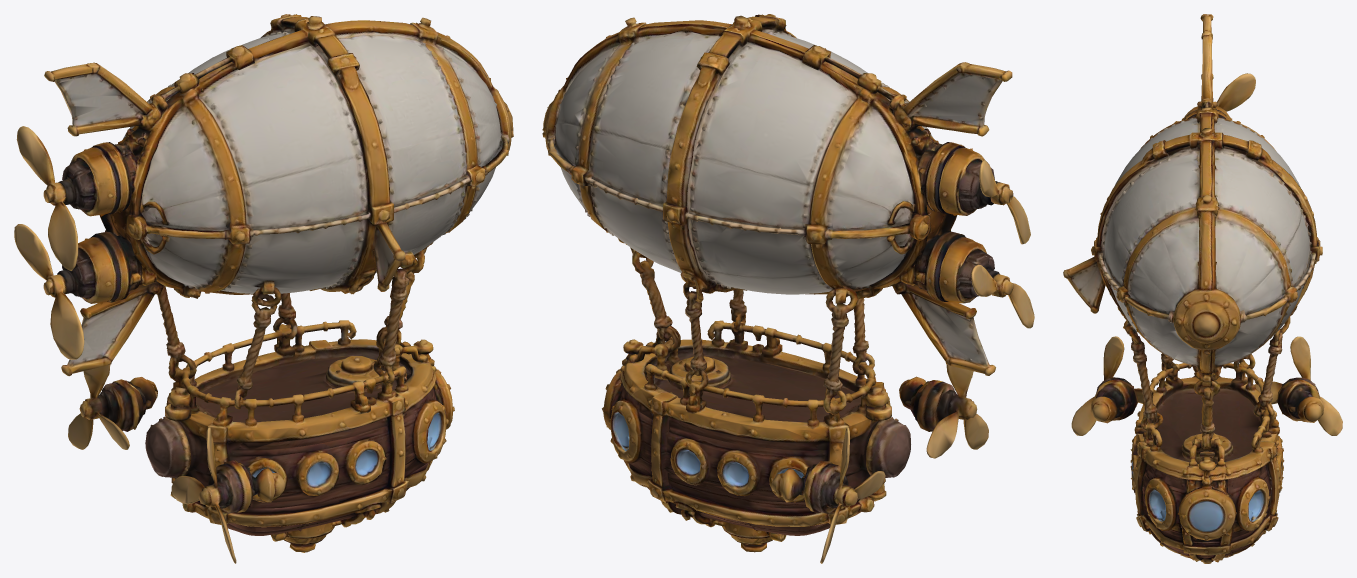
File: prop_airship.glb
The picture shows the model from 3 angles, left to right: view 1: azimuth 30°, elevation 25°; view 2: azimuth 150°, elevation 25°; view 3: azimuth 270°, elevation 25°; orthographic projection. The views are drawn at different scales.
Visible parts, largest first — view 1: tripo_node_fac41a19-b285-4062-aef2-5f609c83fde9; view 2: tripo_node_fac41a19-b285-4062-aef2-5f609c83fde9; view 3: tripo_node_fac41a19-b285-4062-aef2-5f609c83fde9.
Part boxes in pixels (left/top/right/bottom): tripo_node_fac41a19-b285-4062-aef2-5f609c83fde9: left=14, top=14, right=513, bottom=563; tripo_node_fac41a19-b285-4062-aef2-5f609c83fde9: left=542, top=14, right=1034, bottom=563; tripo_node_fac41a19-b285-4062-aef2-5f609c83fde9: left=1063, top=14, right=1342, bottom=563.
Size of the model in its own units: 0.8861 by 0.9838 by 0.5594.
1 material, 1 textured.
